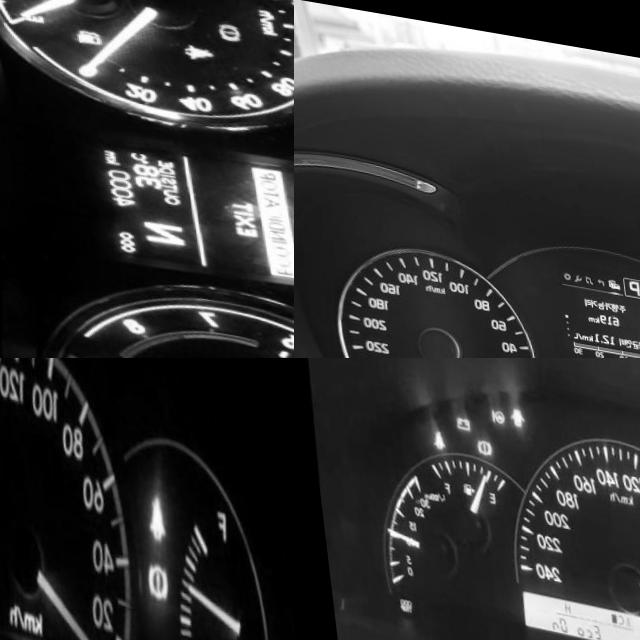Electronic Power Steering: (487, 403, 501, 420)
Seat Belt: (138, 480, 164, 530), (181, 31, 212, 51), (427, 425, 440, 446)
